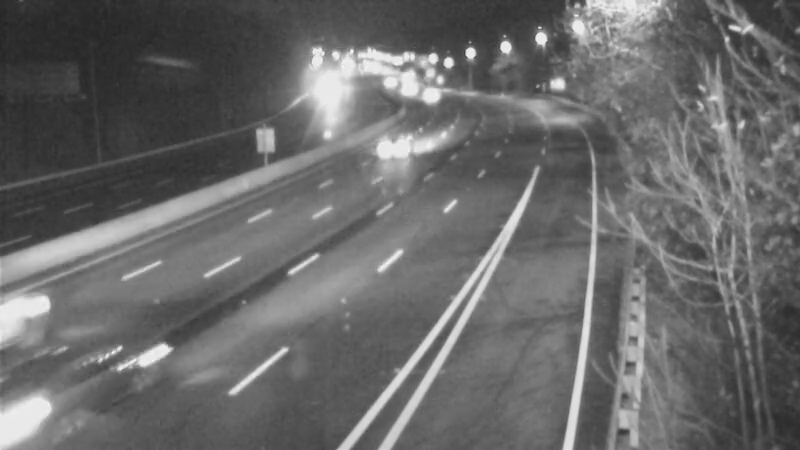vehicle: (361, 57, 411, 107), (386, 62, 436, 112), (405, 69, 455, 119), (366, 121, 416, 171)
